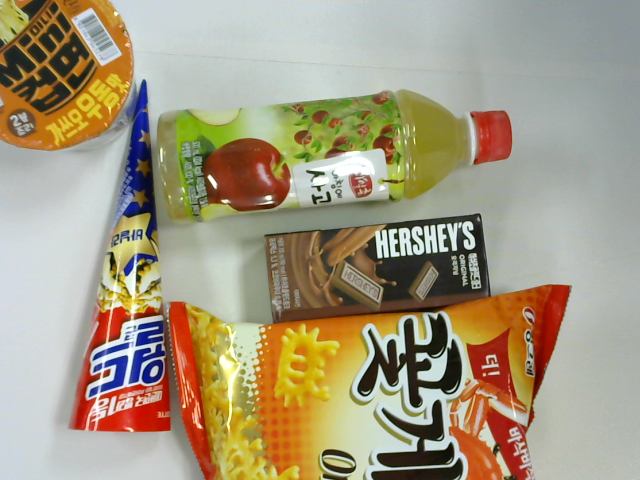Crabrang: (166, 287, 564, 480)
Hush_Choco_Drink: (266, 211, 494, 316)
Morning_Apple_500ml: (157, 90, 515, 227)
Udongmini: (1, 1, 137, 153)
World_Cone_Banila: (68, 81, 183, 435)
